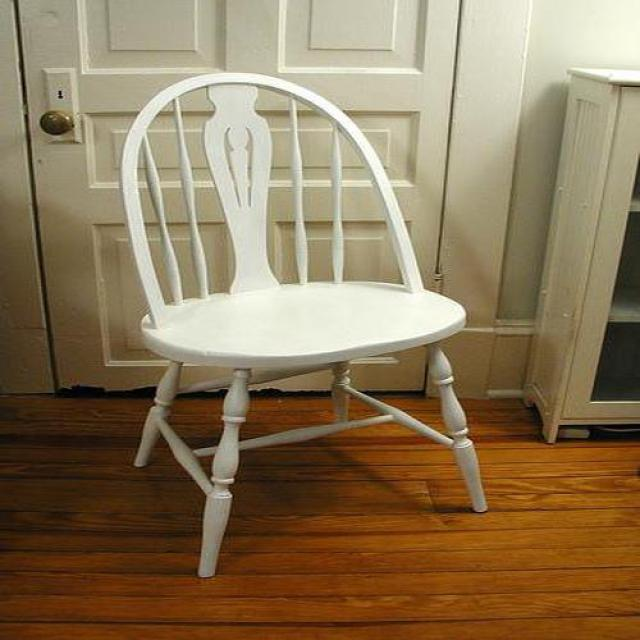chair: (119, 73, 488, 581)
